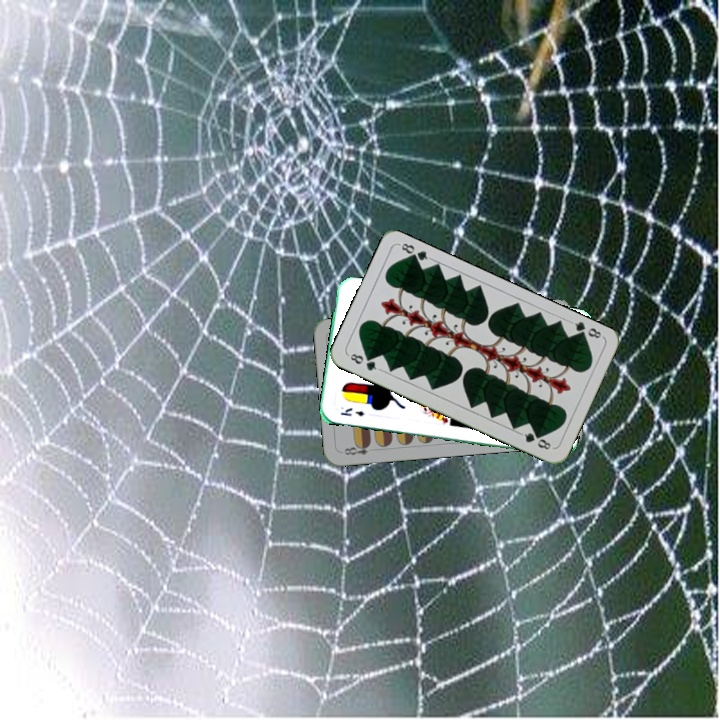E8: (340, 439, 373, 458)
EK: (336, 404, 367, 419)
G8: (567, 317, 606, 342), (344, 349, 383, 373)
